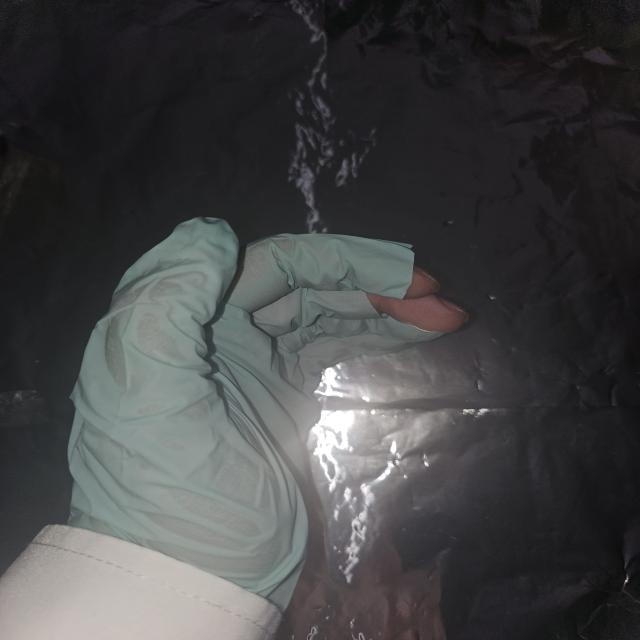gloves_damaged: (67, 214, 477, 614)
